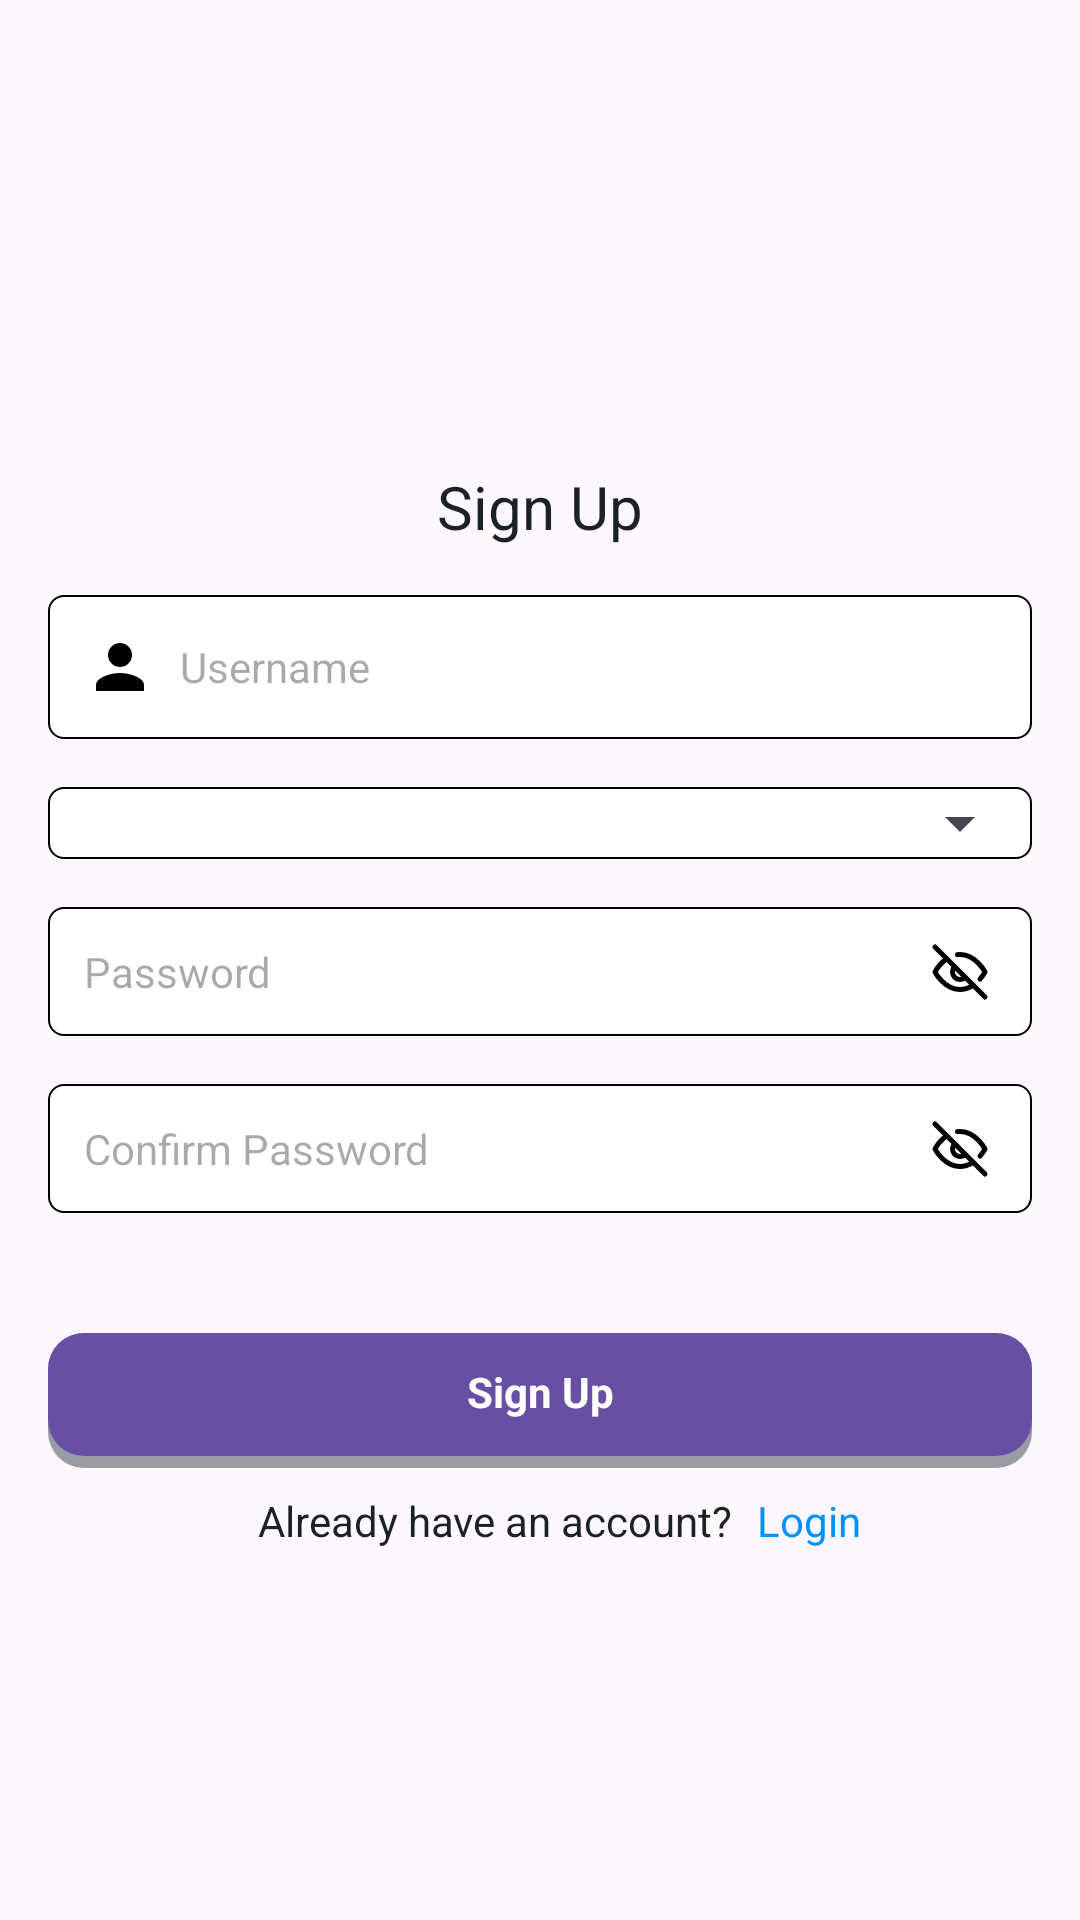

Icons on this 1080*1920 Android screen, each with the point to tap as point (x, y):
close eye: point (960, 972), point (960, 1149)
